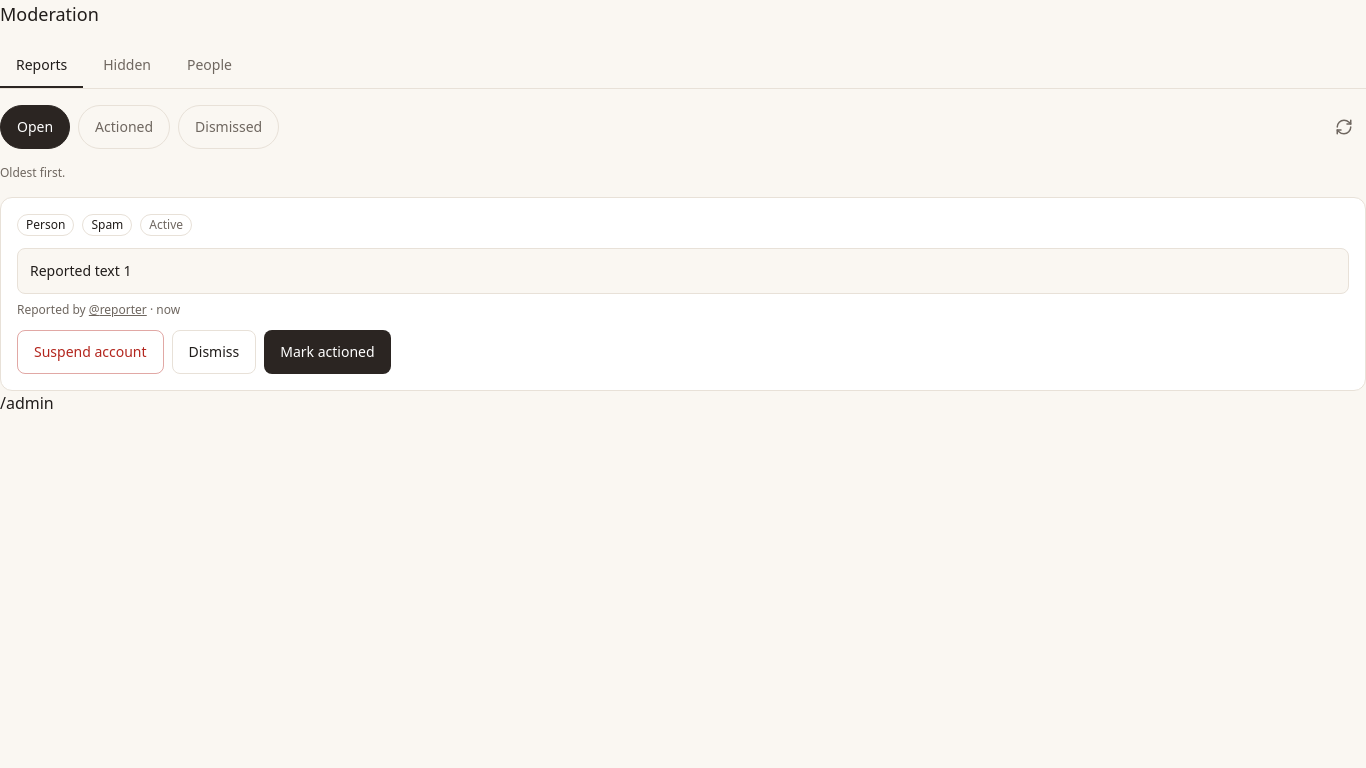
it: accounts › keeps the dialog open and says why when suspending an admin is refused
This screenshot has width=1366, height=768.
Click the button "Suspend account" at {"x": 90, "y": 352}, box [17,330,164,374]
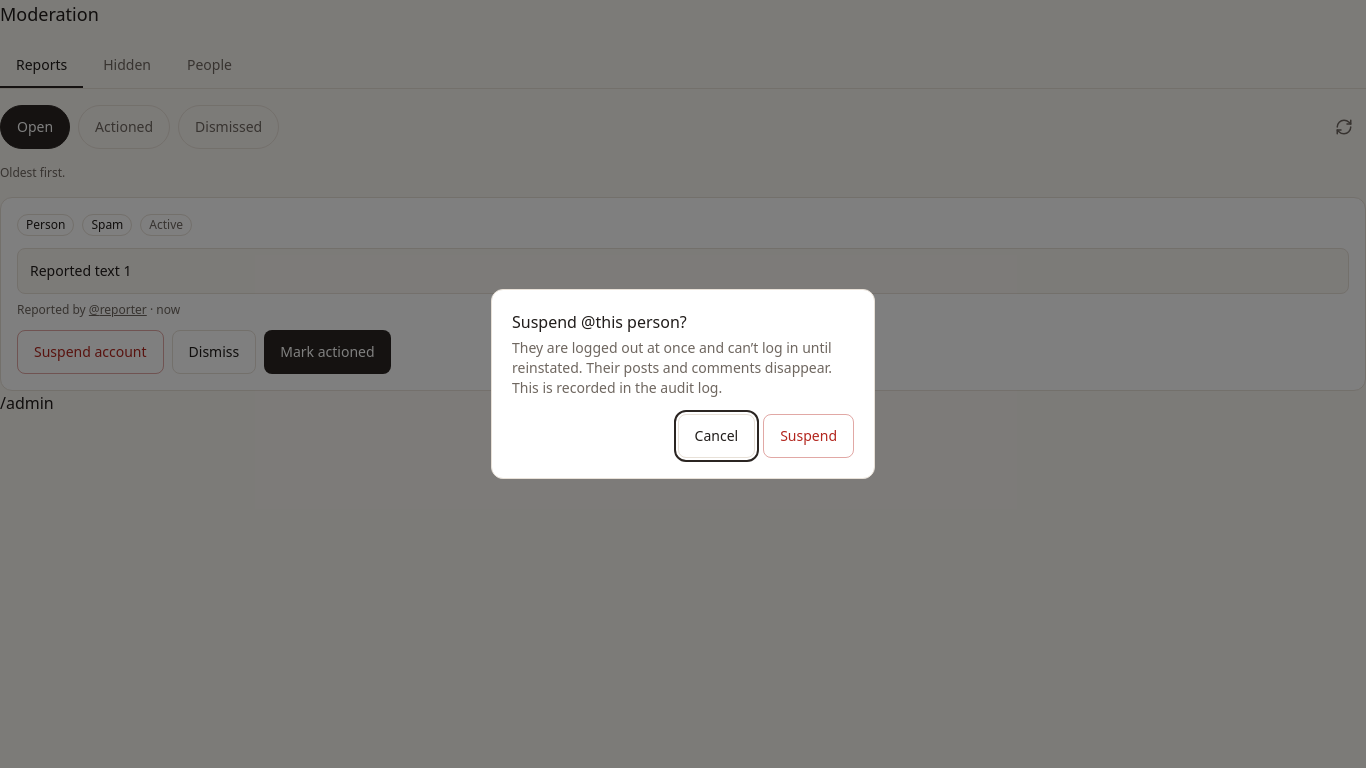
Click the button "Suspend" at {"x": 809, "y": 436}, box [763,414,854,458]
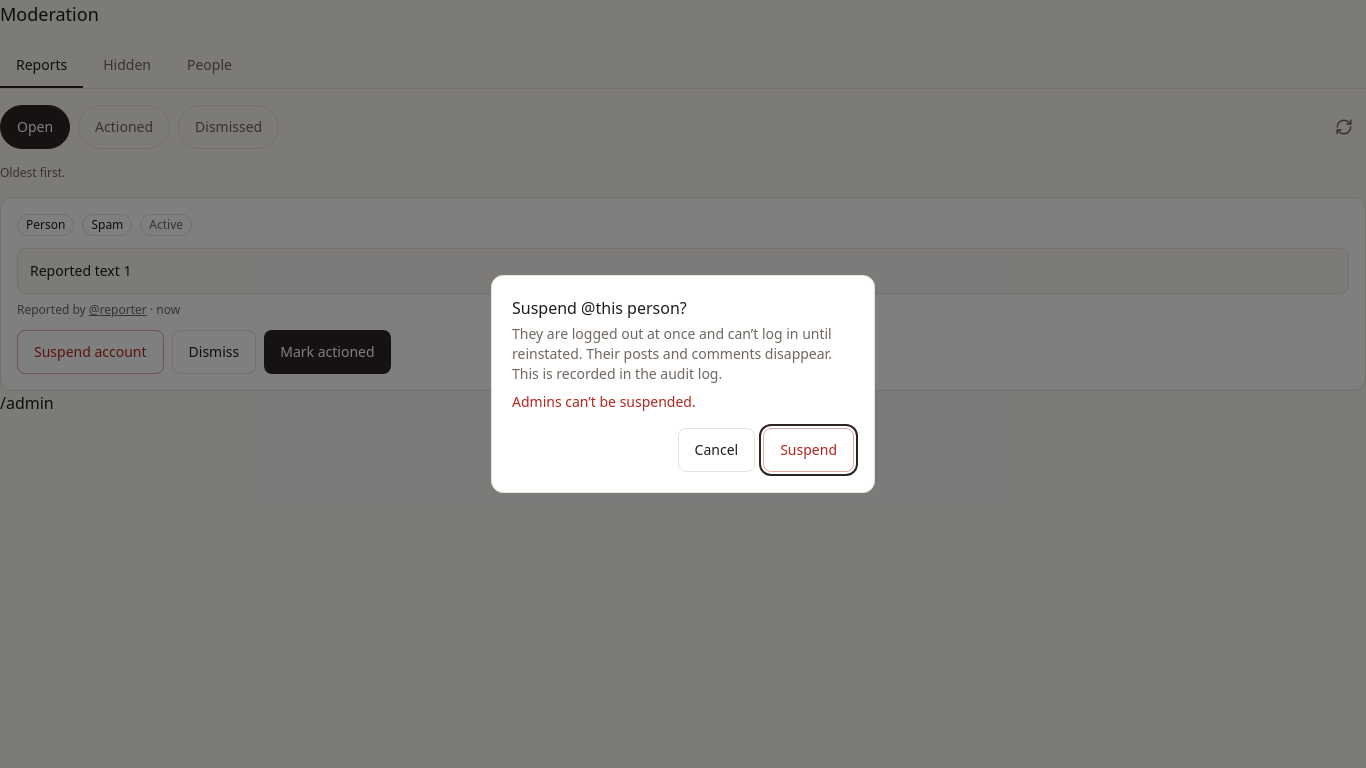
Check: the message reads "Admins can’t be suspended.", box [512,392,696,411]
